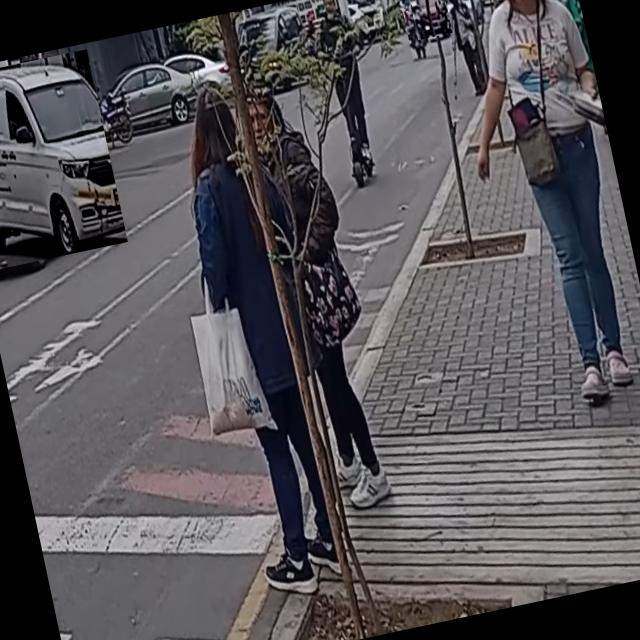car: (0, 49, 127, 272), (409, 0, 452, 39)
motorcycle: (403, 6, 435, 61)
